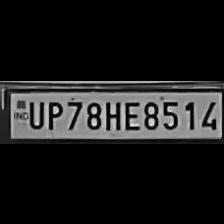1: (180, 96, 198, 130)
4: (197, 96, 219, 130)
5: (158, 96, 180, 130)
7: (63, 97, 81, 131)
8: (83, 98, 103, 130), (141, 96, 159, 130)
E: (121, 98, 139, 130)
H: (103, 98, 121, 130)
P: (43, 96, 62, 130)
U: (24, 97, 43, 129)
